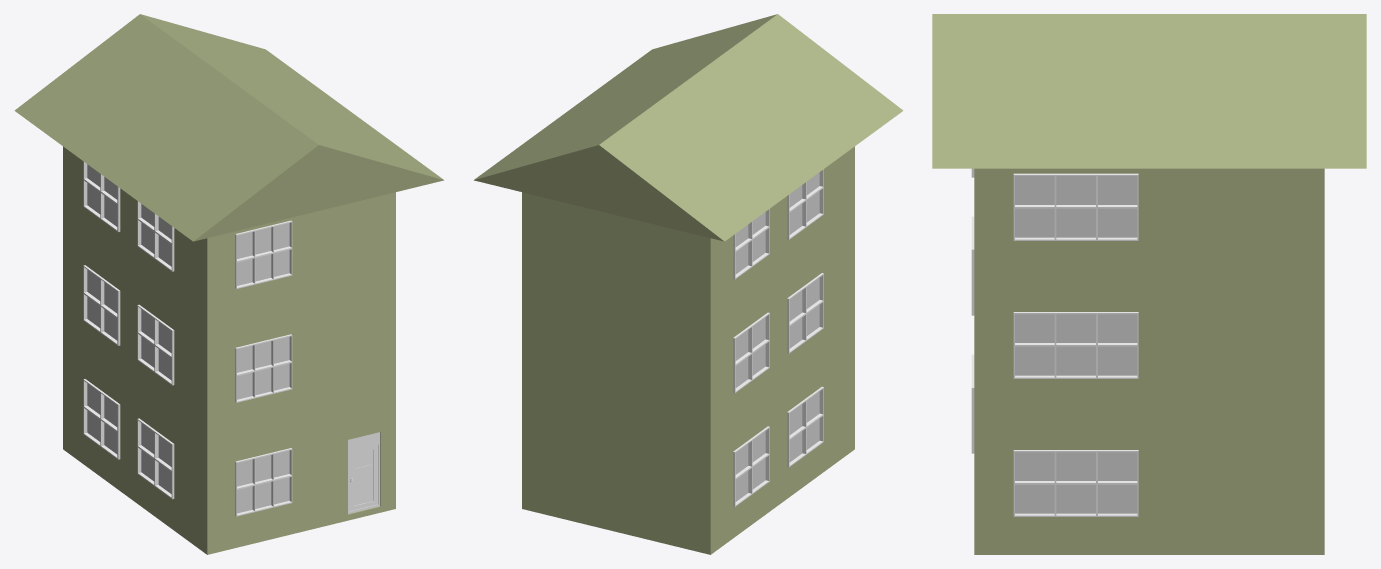
File: House_29.fbx
3 renders of one model, left to right at view 1: azimuth 30°, elevation 25°; view 2: azimuth 150°, elevation 25°; view 3: azimuth 270°, elevation 25°, orthographic. The views are drawn at different scales.
Visible parts, largest first — view 1: House_29_Body; view 2: House_29_Body; view 3: House_29_Body.
Part boxes in pixels (<box>): House_29_Body: <box>14,14,443,554</box>; House_29_Body: <box>474,14,903,554</box>; House_29_Body: <box>932,14,1366,554</box>.
Bounding box in the file's own units: 779 × 1184 × 961.
